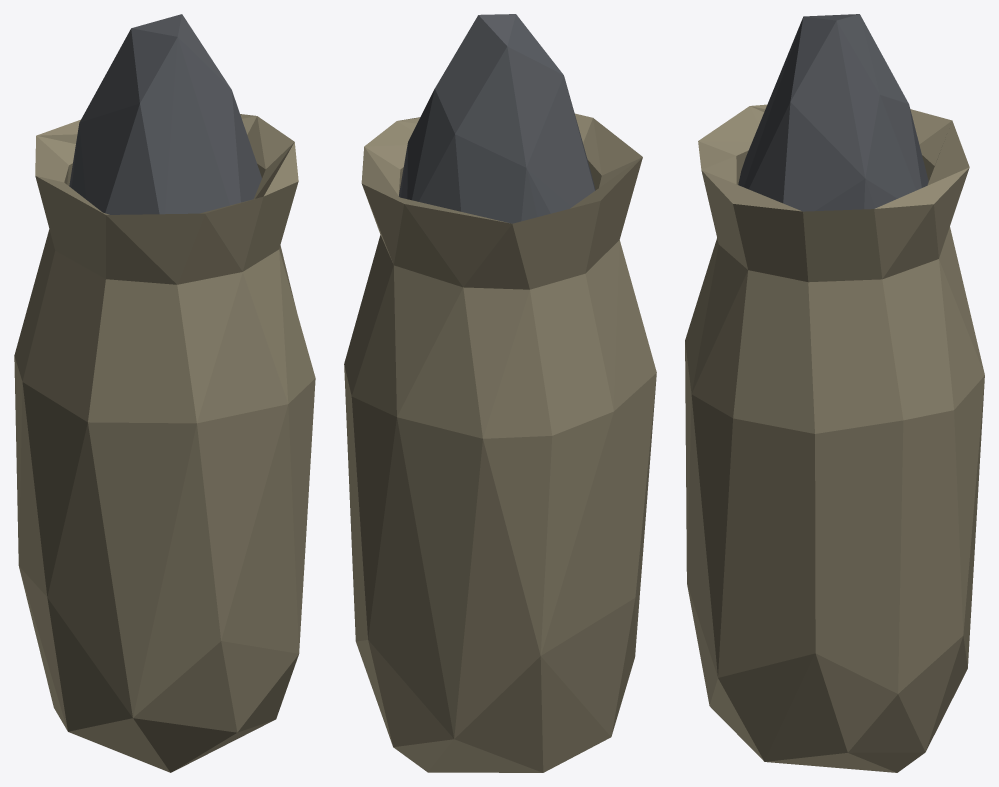
The model's file is slim pepper pot.glb.
The picture shows the model from 3 angles, left to right: view 1: azimuth 30°, elevation 25°; view 2: azimuth 150°, elevation 25°; view 3: azimuth 270°, elevation 25°; orthographic projection. The views are drawn at different scales.
Visible parts, largest first — view 1: Cube, Cube.001; view 2: Cube, Cube.001; view 3: Cube, Cube.001.
Part boxes in pixels (x1,y1,x2,y2): Cube: (14,114,315,772); Cube.001: (69,14,261,214); Cube: (344,113,656,772); Cube.001: (399,14,595,223); Cube: (685,104,984,772); Cube.001: (738,14,928,211).
Bounding box in the file's own units: 0.3537 × 0.9484 × 0.3473.
